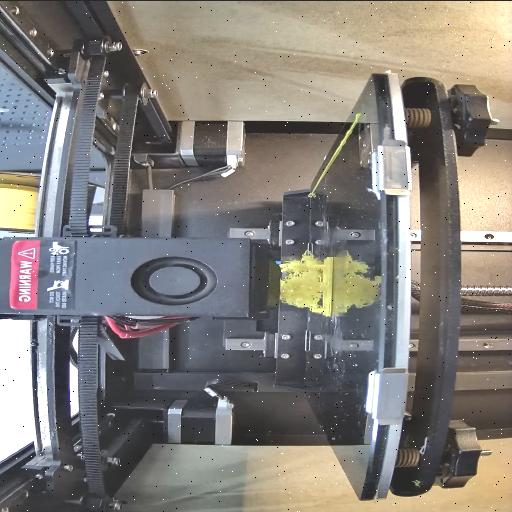spaghetti: (276, 250, 321, 310)
